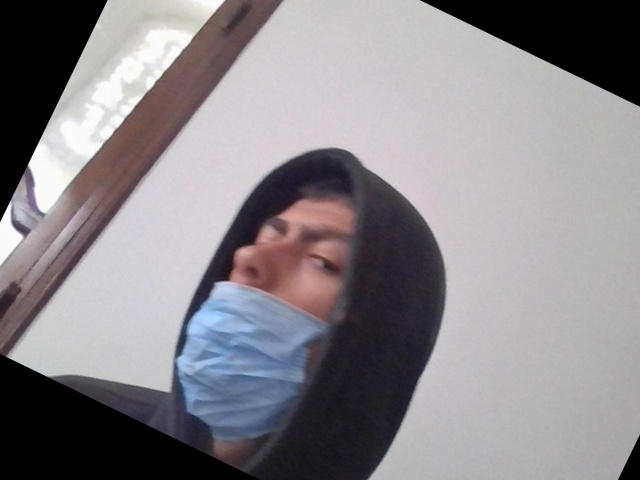mask_weared_incorrect: (166, 151, 404, 449)
